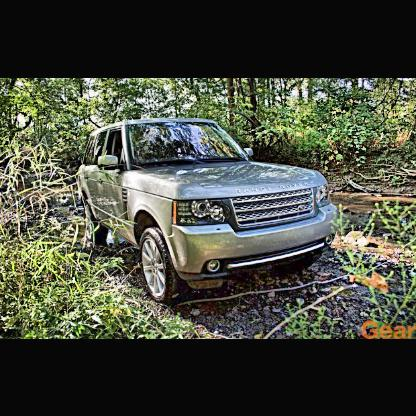Land Rover Range Rover SUV 2012: (78, 118, 341, 301)
